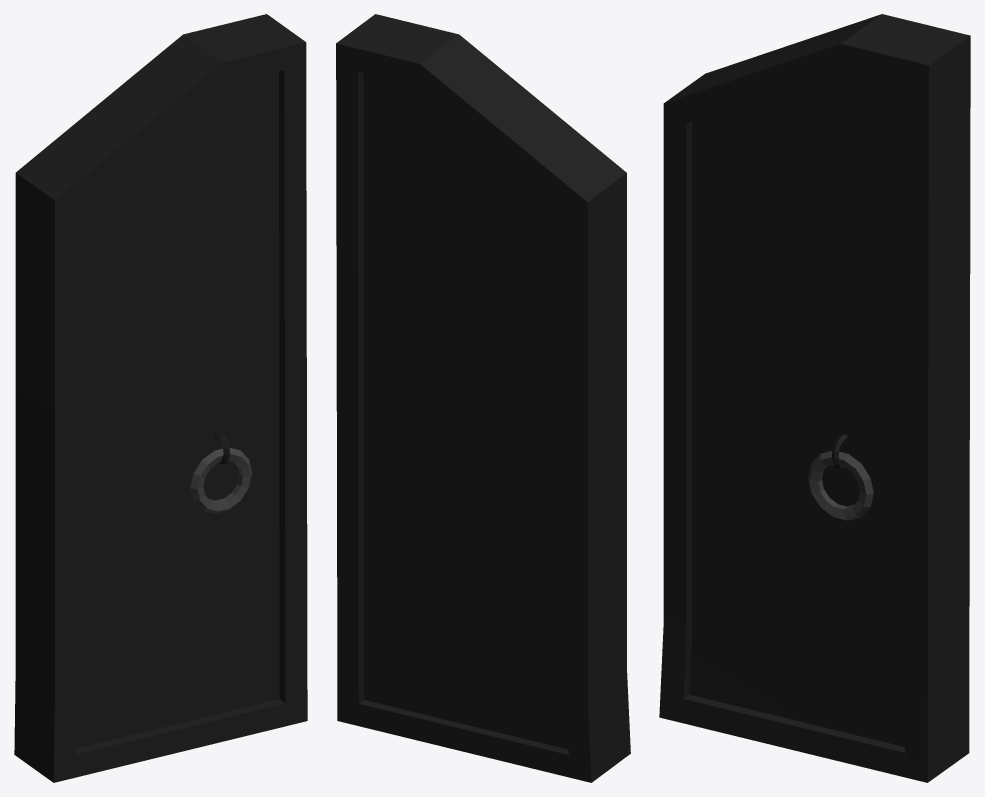
The model's file is winter-castle-door-v2-l.glb.
3 renders of one model, left to right at view 1: azimuth 30°, elevation 25°; view 2: azimuth 150°, elevation 25°; view 3: azimuth 330°, elevation 25°, orthographic. The views are drawn at different scales.
Parts seen in each view (by area): view 1: WinterCastleDoor_v2_L; view 2: WinterCastleDoor_v2_L; view 3: WinterCastleDoor_v2_L.
Boxes of the visible parts, x1,y1,x2,y2 form: WinterCastleDoor_v2_L: (14, 14, 307, 782); WinterCastleDoor_v2_L: (336, 14, 630, 782); WinterCastleDoor_v2_L: (659, 14, 970, 782).
Bounding box in the file's own units: 162 × 413 × 50.37.
1 material, 1 textured.
